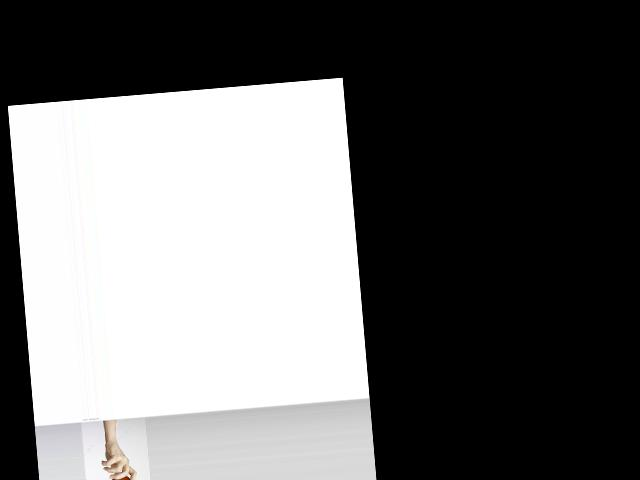tomato: (109, 476, 131, 480)
